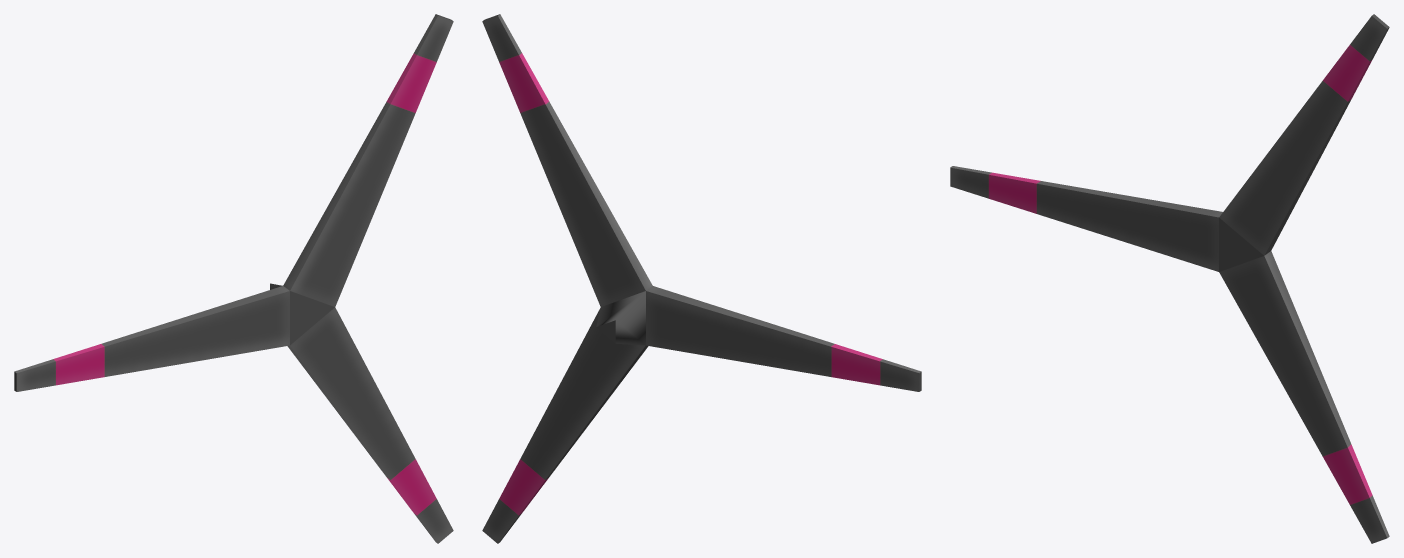
Rendered from pervane.FBX.
The picture shows the model from 3 angles, left to right: view 1: azimuth 30°, elevation 25°; view 2: azimuth 150°, elevation 25°; view 3: azimuth 330°, elevation 25°; orthographic projection.
Visible parts, largest first — view 1: Cylinder001; view 2: Cylinder001; view 3: Cylinder001.
Part boxes in pixels (<box>): Cylinder001: <box>14,14,453,543</box>; Cylinder001: <box>482,14,921,543</box>; Cylinder001: <box>950,14,1389,543</box>.
Size of the model in its own units: 1.84 by 2.13 by 0.2088.
Materials: 1 (1 with a texture image).
